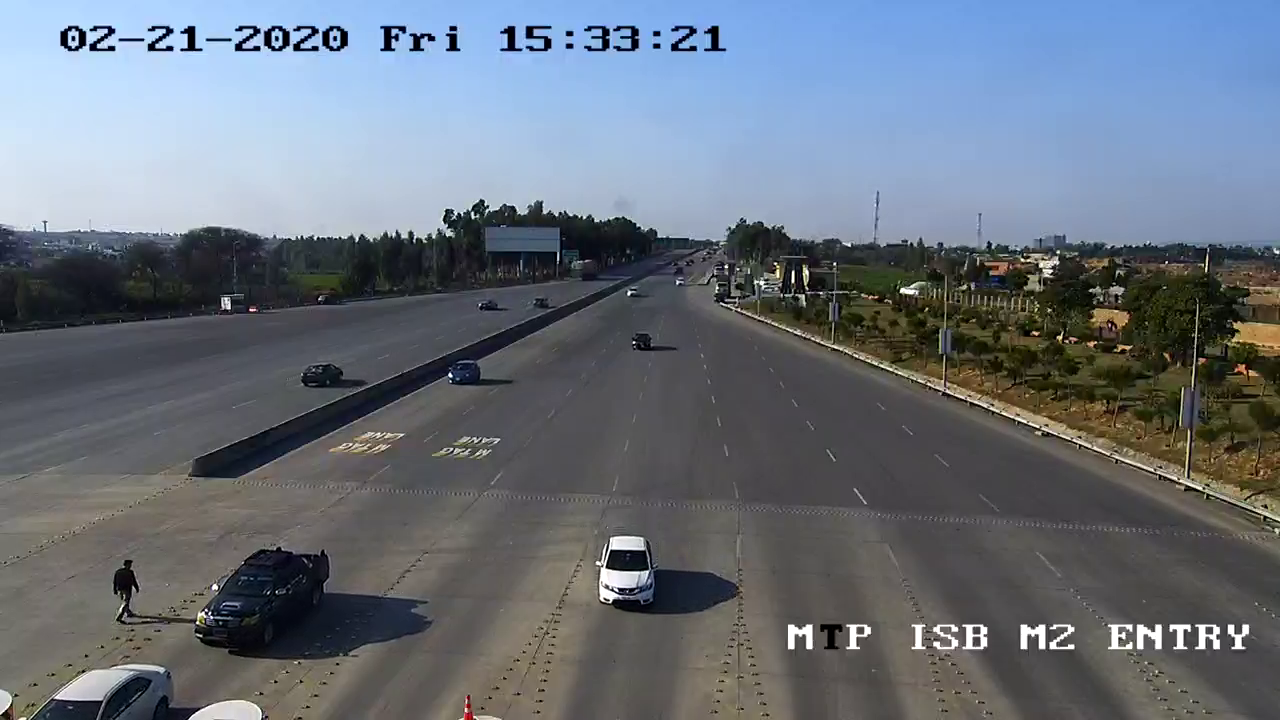f1: (172, 531, 339, 658), (591, 526, 671, 623), (435, 349, 488, 398)
